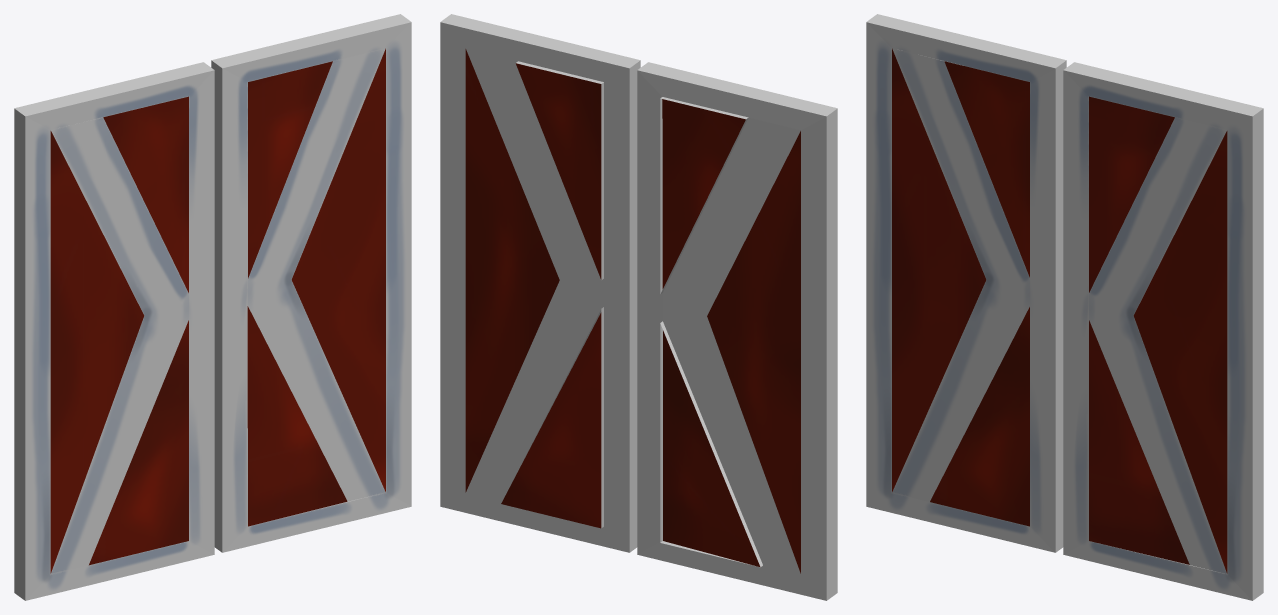
Rendered from BarnDoors.fbx.
3 views of the same model, side by side, from view 1: azimuth 30°, elevation 25°; view 2: azimuth 150°, elevation 25°; view 3: azimuth 330°, elevation 25° (orthographic).
Visible parts, largest first — view 1: BarnDoors_L, BarnDoors_R; view 2: BarnDoors_L, BarnDoors_R; view 3: BarnDoors_R, BarnDoors_L.
Boxes of the visible parts, bbox=[...] form: BarnDoors_L: bbox=[14, 62, 214, 600]; BarnDoors_R: bbox=[211, 14, 411, 552]; BarnDoors_L: bbox=[637, 62, 837, 600]; BarnDoors_R: bbox=[440, 14, 640, 552]; BarnDoors_R: bbox=[1063, 62, 1263, 600]; BarnDoors_L: bbox=[866, 14, 1066, 552].
Size of the model in its own units: 307 by 368 by 18.95.
1 material, 1 textured.
